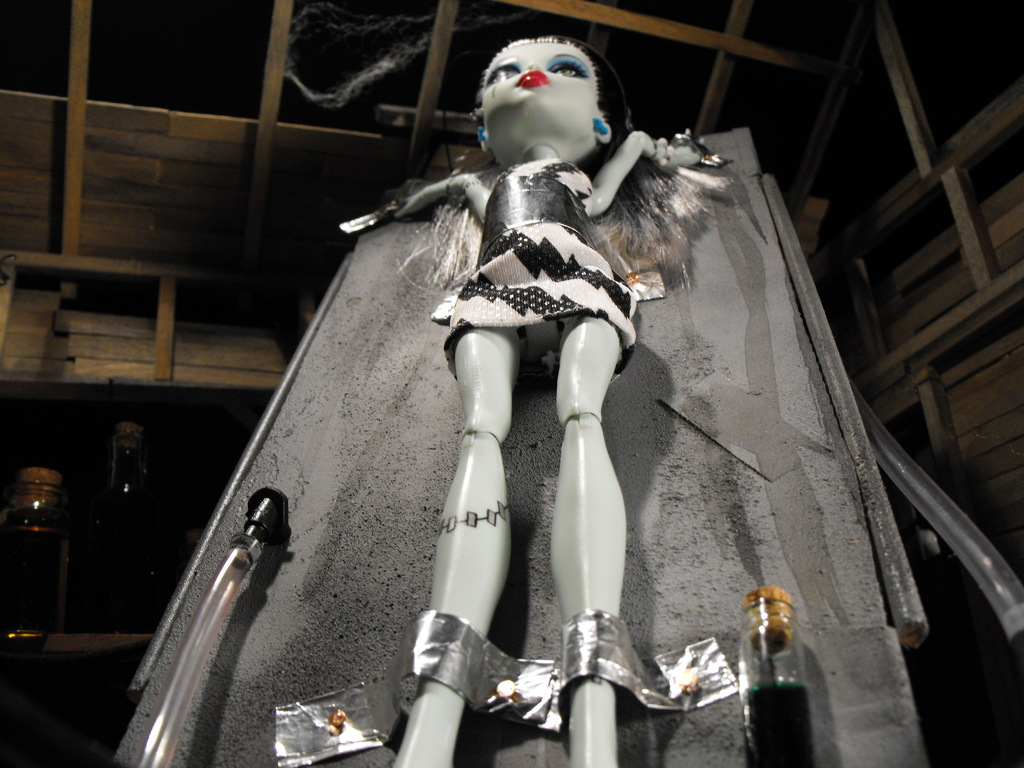Human_hand: (660, 134, 703, 172), (391, 191, 421, 221)
